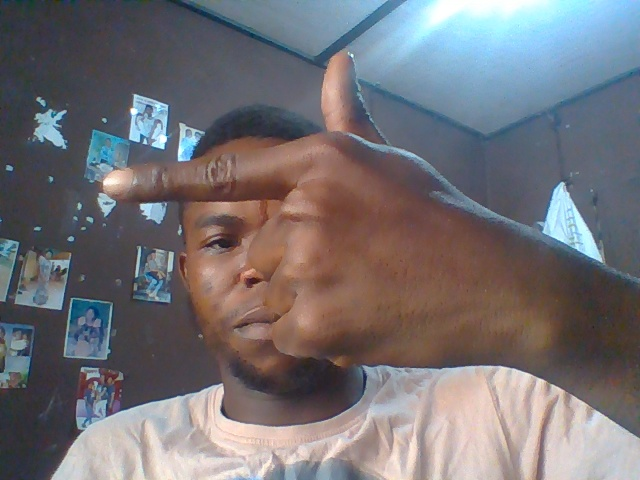Right: (102, 45, 534, 380)
